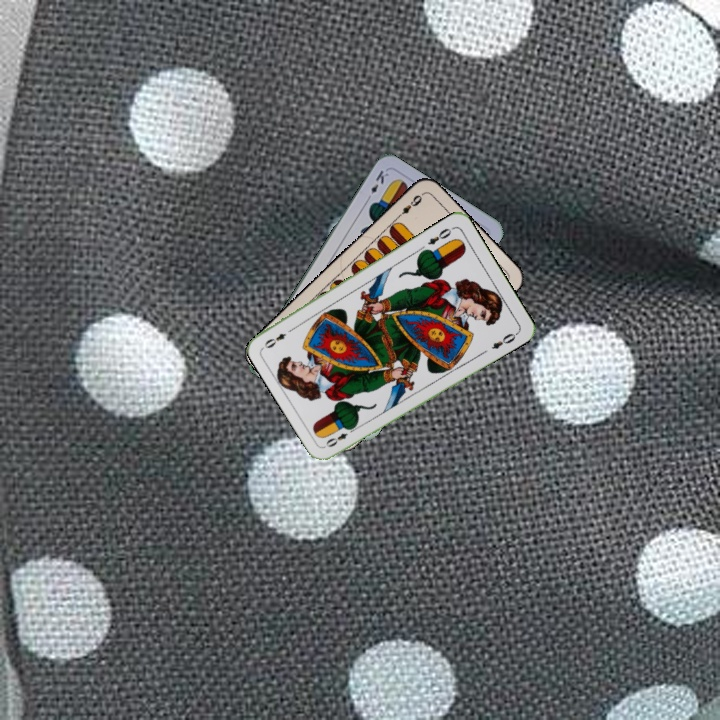E9: (393, 191, 425, 221)
EK: (362, 166, 391, 204)
EO: (322, 423, 358, 450), (424, 224, 454, 247)
